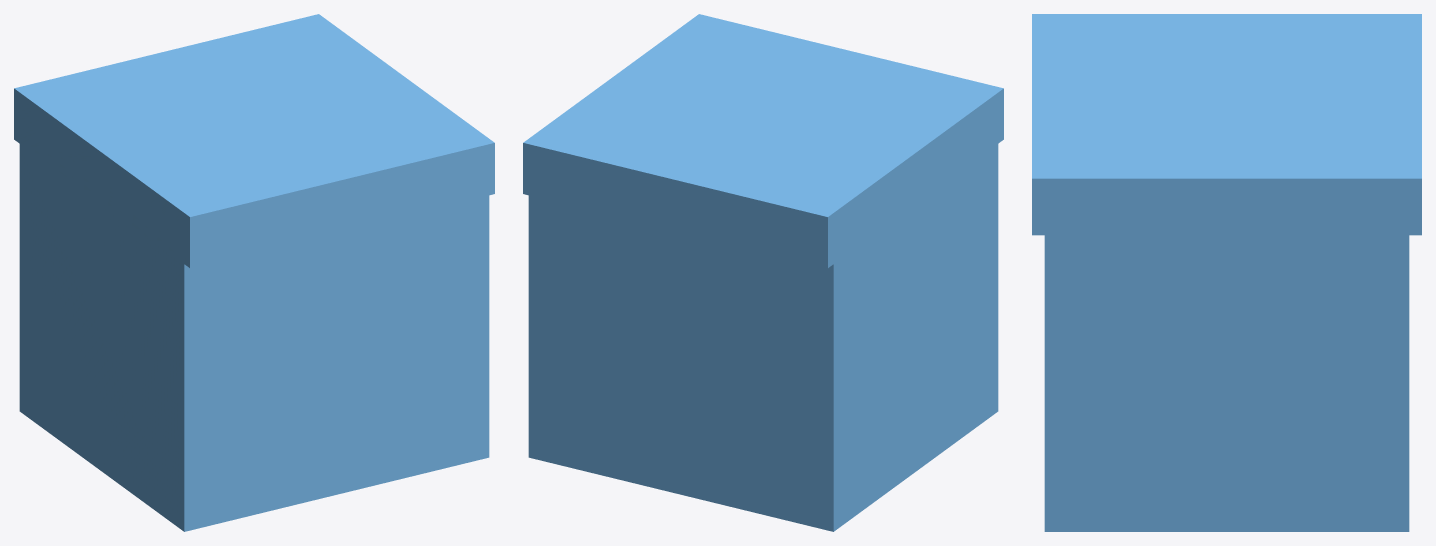
Rendered from grass_wall.fbx.
The picture shows the model from 3 angles, left to right: view 1: azimuth 30°, elevation 25°; view 2: azimuth 150°, elevation 25°; view 3: azimuth 270°, elevation 25°; orthographic projection. The views are drawn at different scales.
Visible parts, largest first — view 1: grass_wall; view 2: grass_wall; view 3: grass_wall.
Part boxes in pixels (bbox=[...]): grass_wall: bbox=[14, 14, 494, 531]; grass_wall: bbox=[523, 14, 1003, 531]; grass_wall: bbox=[1032, 14, 1421, 531].
Bounding box in the file's own units: 800 × 800 × 800.
